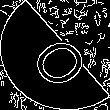O_NE: (18, 22, 92, 88)
